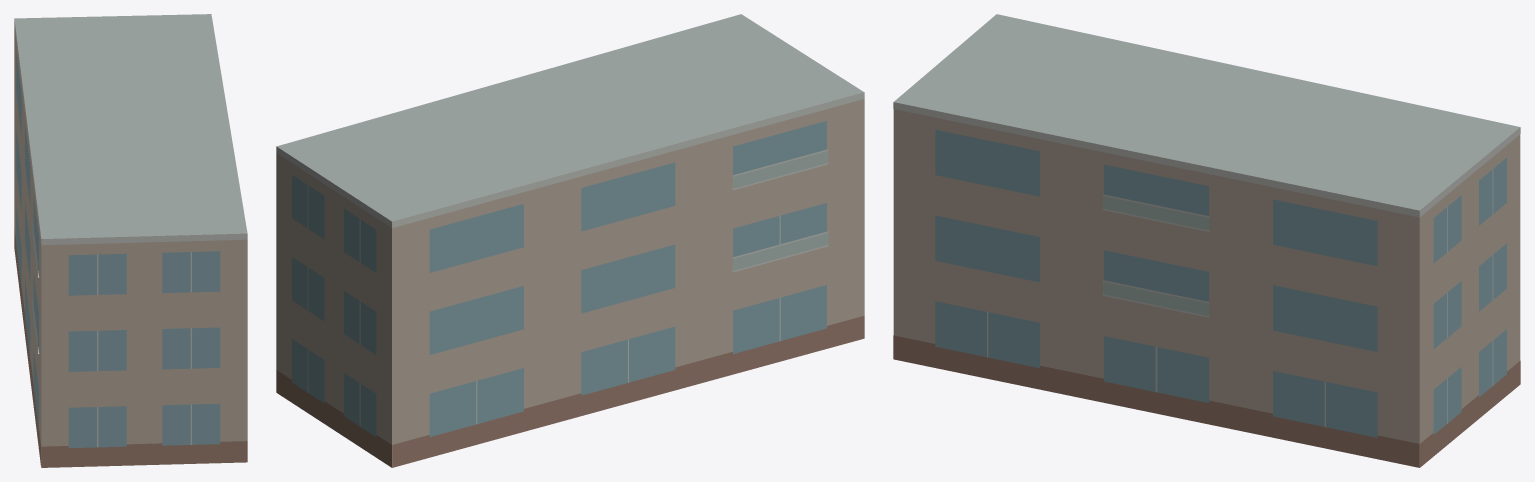
File: survey-upis-32805056.glb
3 views of the same model, side by side, from view 1: azimuth 30°, elevation 25°; view 2: azimuth 150°, elevation 25°; view 3: azimuth 270°, elevation 25° (orthographic). The views are drawn at different scales.
Parts seen in each view (by area): view 1: survey-upis-32805056.tmp; view 2: survey-upis-32805056.tmp; view 3: survey-upis-32805056.tmp.
Part boxes in pixels (bbox=[...]): survey-upis-32805056.tmp: bbox=[14, 14, 247, 467]; survey-upis-32805056.tmp: bbox=[276, 14, 864, 467]; survey-upis-32805056.tmp: bbox=[893, 14, 1520, 467].
Size of the model in its own units: 15.01 by 9.15 by 20.22.
